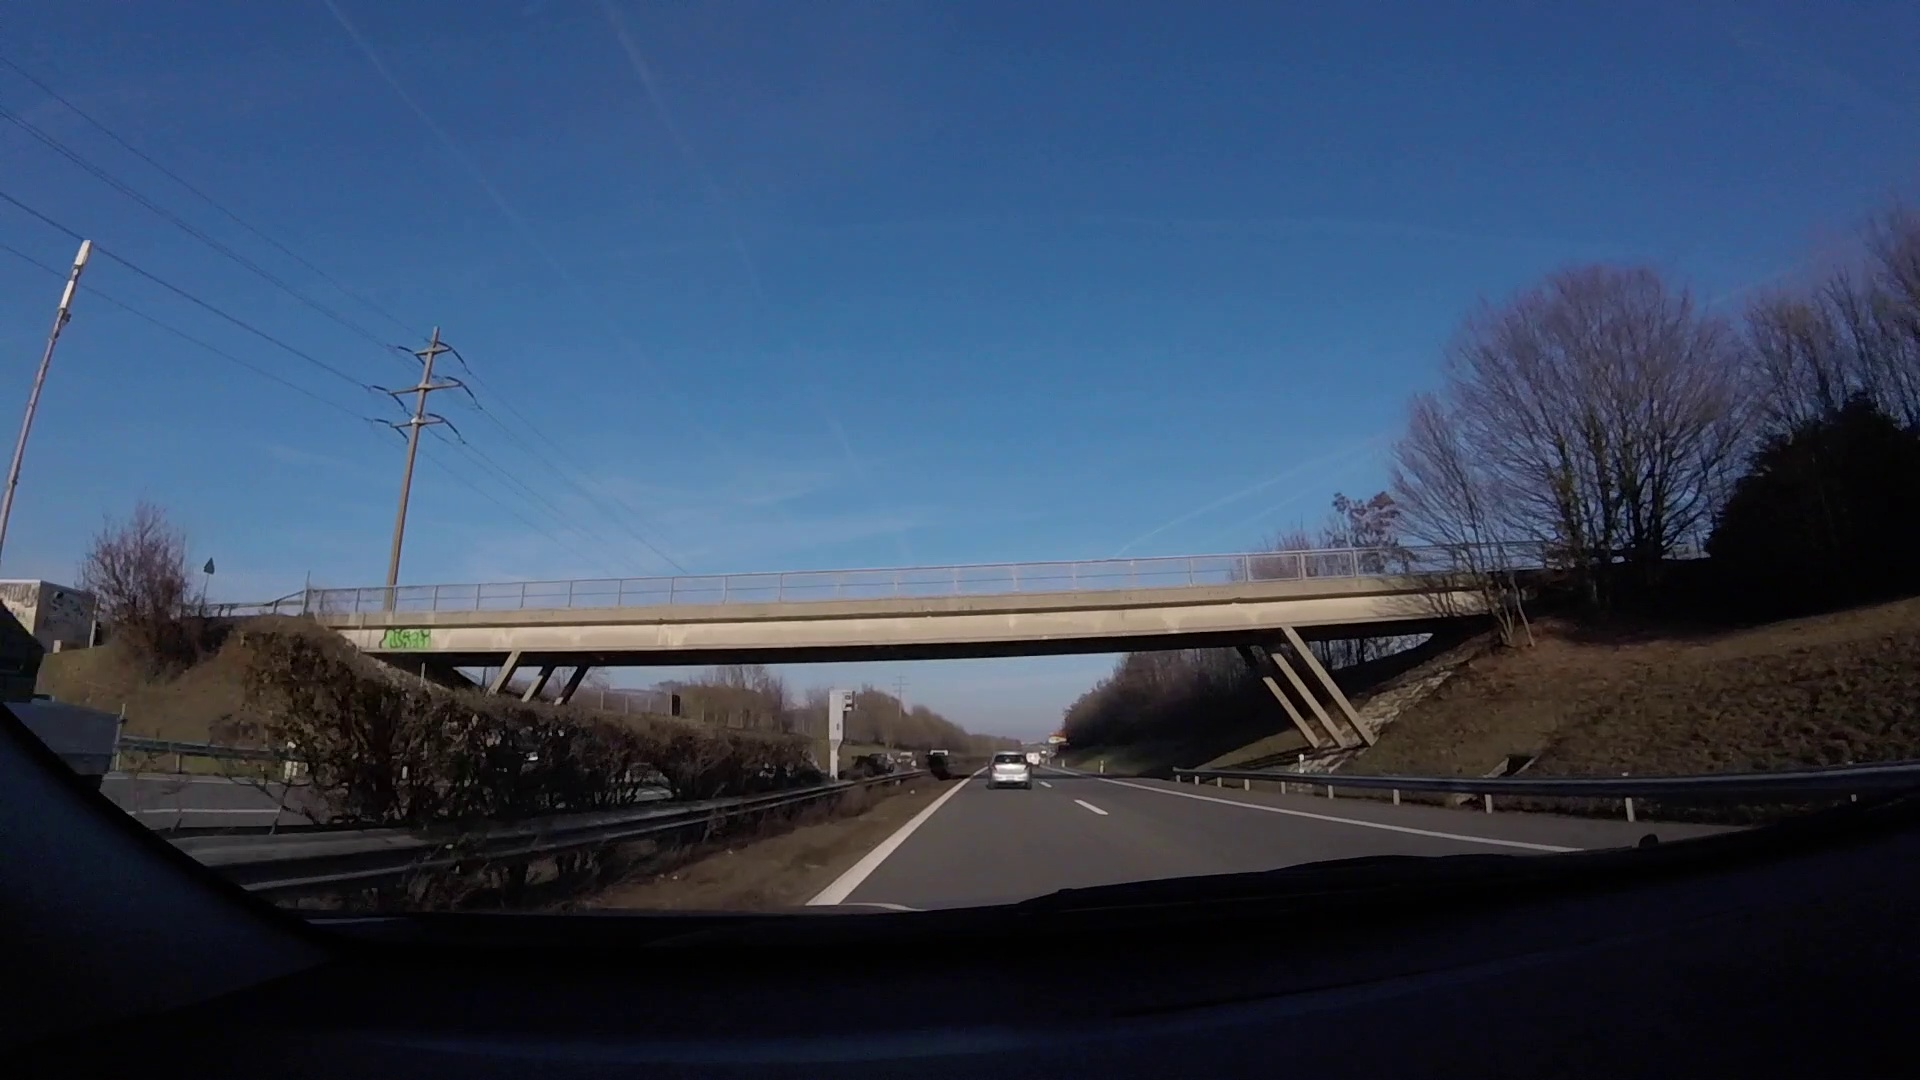radar: (825, 687, 858, 783)
